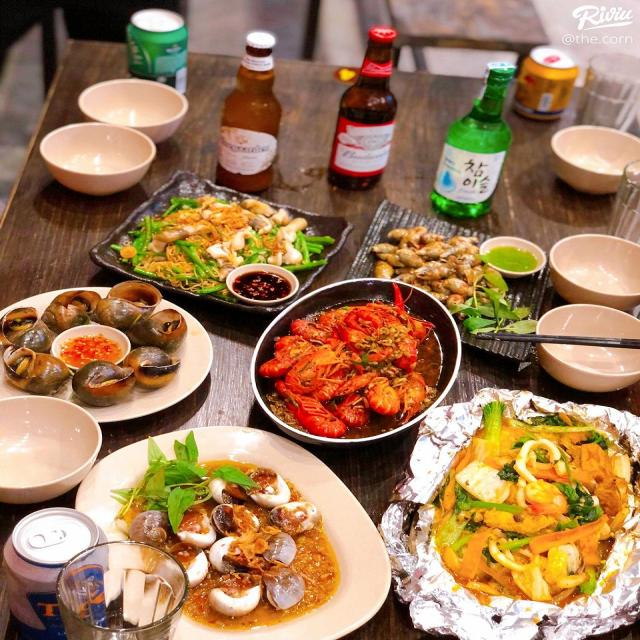bia: (318, 32, 418, 190), (2, 507, 113, 629), (219, 30, 284, 194), (126, 8, 194, 94)
bo huc: (517, 47, 577, 120)
mi xao: (116, 175, 324, 298)
muc xao: (441, 403, 635, 627)
oc buu hap: (1, 275, 214, 413)
soju: (435, 57, 519, 223)
tom sa tac: (280, 287, 443, 440)
